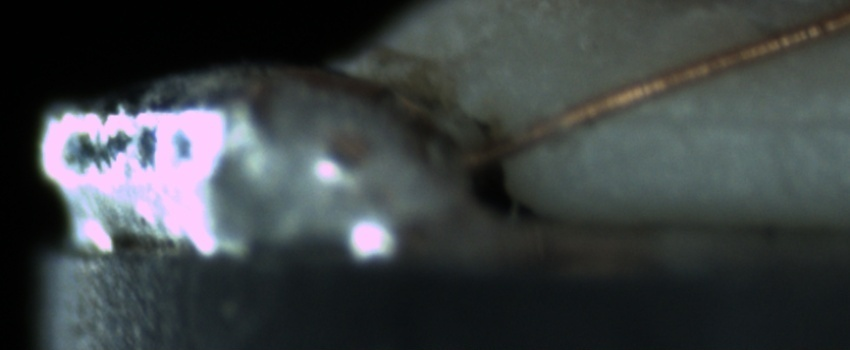DL: (612, 85, 848, 153)
